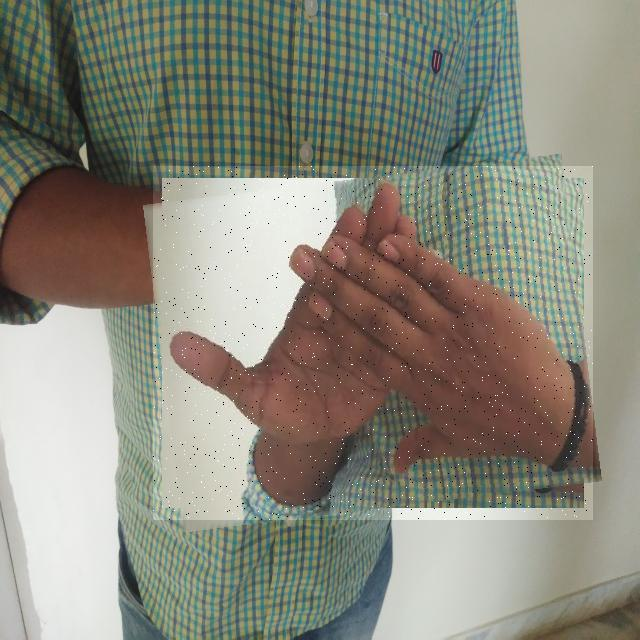H: (153, 166, 593, 520)
